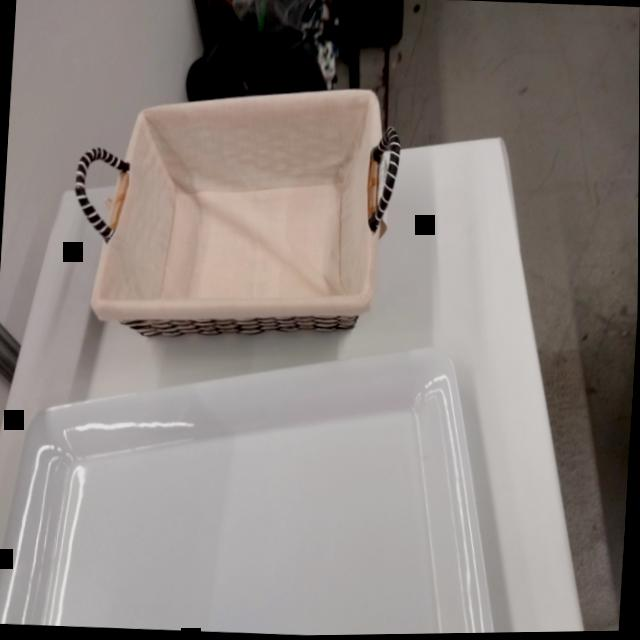basket: (69, 73, 408, 339)
tray: (0, 320, 517, 640)
